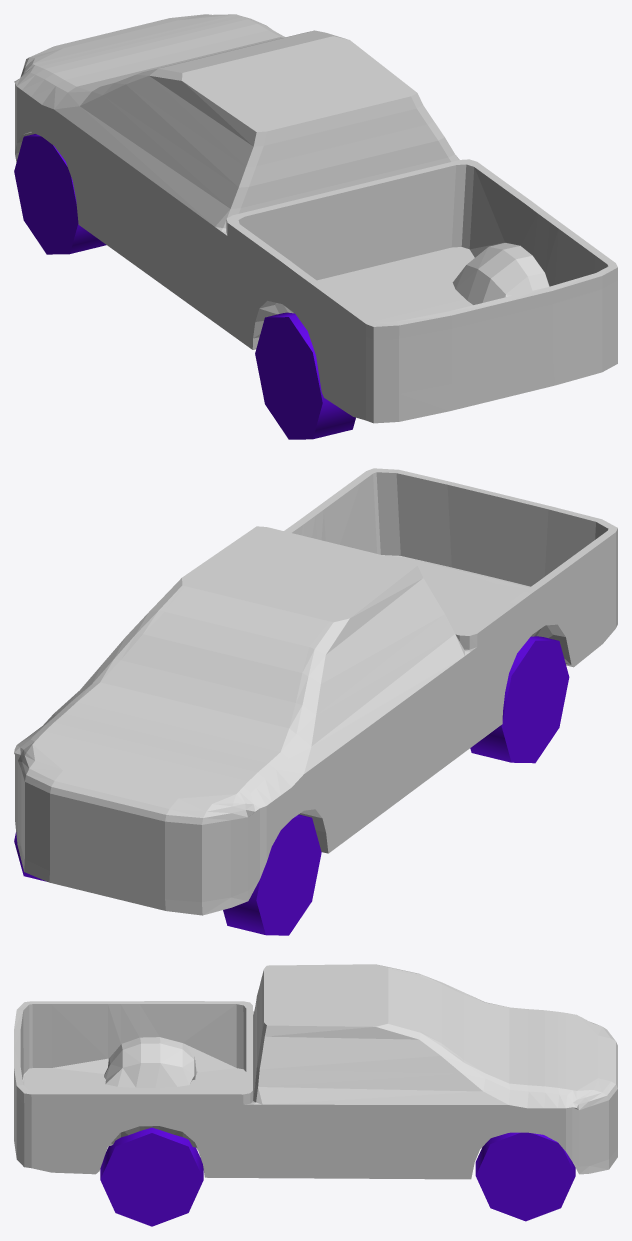
File: USACar.fbx
The picture shows the model from 3 angles, top to bottom: view 1: azimuth 30°, elevation 25°; view 2: azimuth 150°, elevation 25°; view 3: azimuth 270°, elevation 25°; orthographic projection. The views are drawn at different scales.
Parts seen in each view (by area): view 1: Cube.023; view 2: Cube.023; view 3: Cube.023.
Part boxes in pixels (bbox=[...]): Cube.023: bbox=[14, 14, 617, 439]; Cube.023: bbox=[14, 468, 617, 935]; Cube.023: bbox=[14, 964, 617, 1226].
Size of the model in its own units: 189 by 175 by 516.
